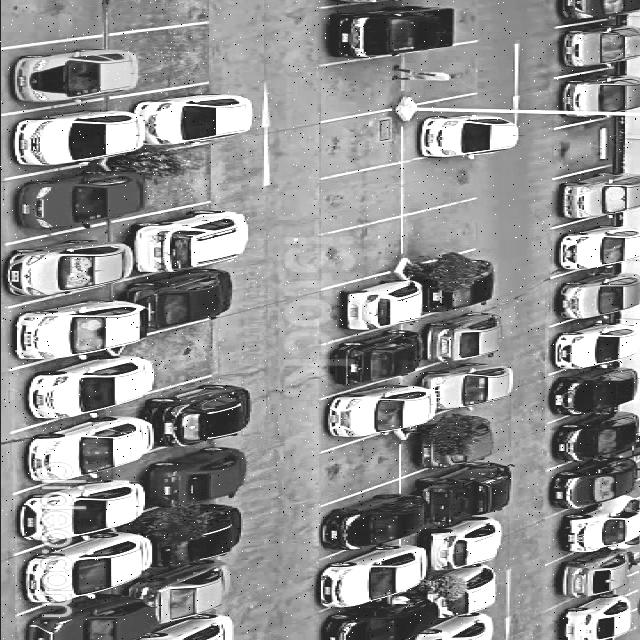occupied: (0, 522, 142, 618), (112, 371, 258, 463), (0, 461, 141, 556), (0, 339, 139, 434), (115, 546, 260, 637), (113, 432, 259, 519), (0, 217, 138, 309), (0, 403, 137, 495), (0, 280, 137, 372), (0, 155, 137, 244), (114, 196, 256, 281), (0, 91, 137, 179), (116, 254, 256, 339), (116, 499, 259, 582), (117, 75, 257, 157), (304, 528, 432, 615), (0, 31, 132, 114), (302, 370, 427, 453), (305, 317, 426, 399), (307, 476, 427, 558), (305, 267, 424, 344), (403, 452, 508, 528), (525, 489, 627, 566), (391, 91, 501, 162), (526, 537, 629, 612), (527, 444, 628, 519), (405, 401, 507, 474), (7, 582, 132, 640), (406, 299, 505, 371), (404, 247, 503, 319), (307, 0, 414, 66), (408, 349, 506, 420), (411, 556, 510, 625), (410, 509, 509, 578), (533, 404, 626, 471), (533, 356, 623, 423), (534, 307, 623, 374), (313, 584, 419, 640), (537, 164, 626, 229), (538, 213, 625, 279), (537, 261, 622, 326), (543, 66, 625, 129), (544, 17, 624, 79), (542, 585, 611, 640)
vacant: (111, 310, 256, 401), (114, 135, 257, 220), (120, 15, 254, 95), (301, 422, 426, 507), (388, 195, 502, 268), (389, 142, 501, 216), (304, 161, 411, 236), (302, 216, 410, 290), (303, 108, 410, 180), (394, 37, 501, 107), (307, 53, 410, 123), (539, 115, 626, 180)
